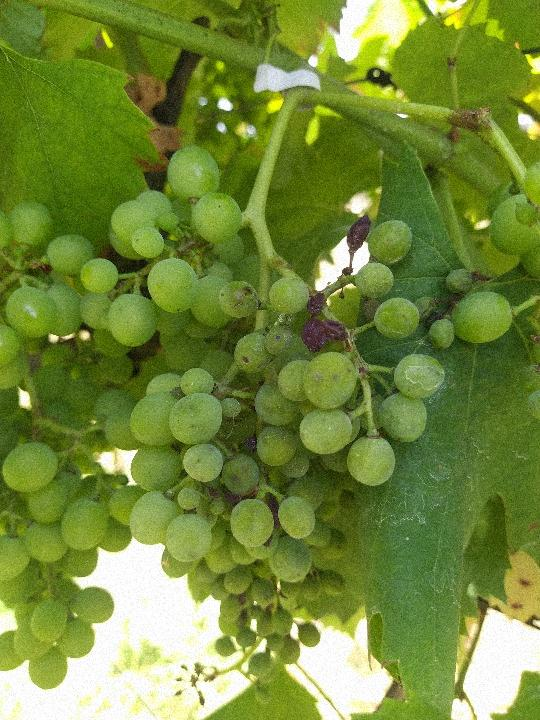grape: (76, 146, 448, 587)
